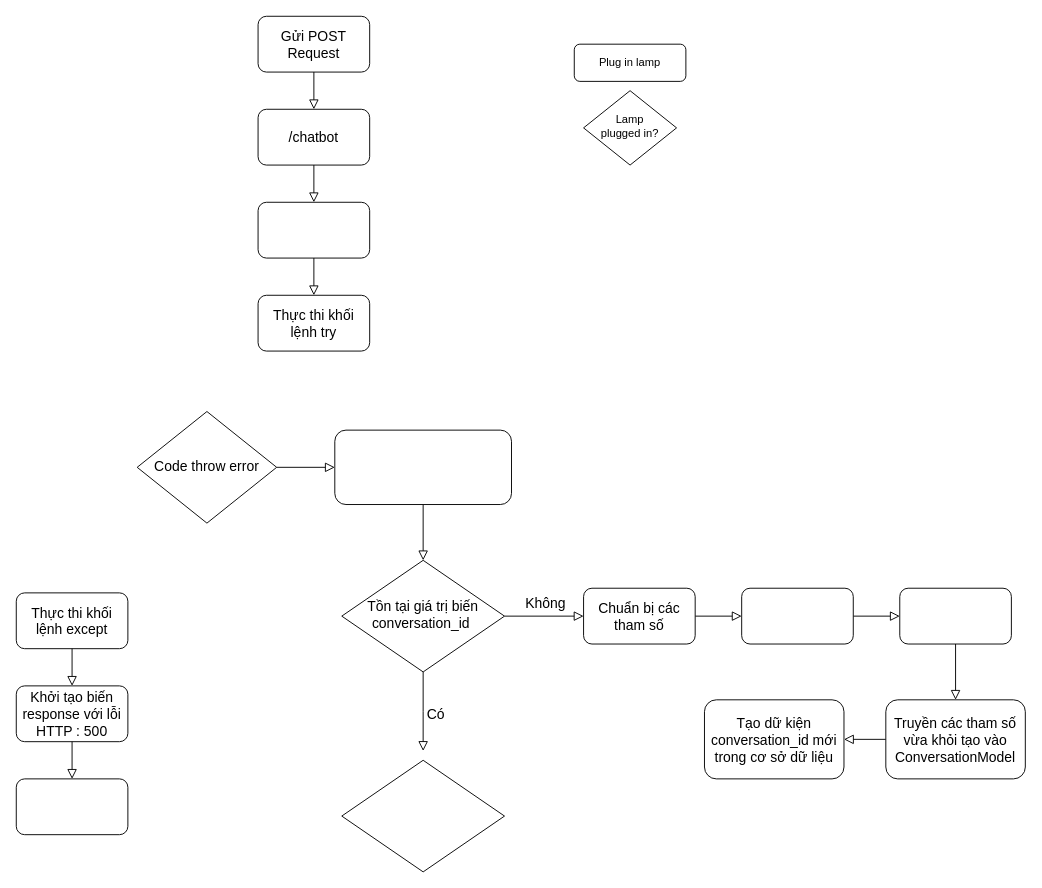
Some shapes in this 1042 by 888 pixel diagram are drawn without their labels. The shapes that lost their labels are listed below. From the top down, each one's centre as x and y in pixels, then its label:
[313,229]: Thực thi createMessage()
[423,467]: Lấy ra cookie["conversation_id"] và gán váo biến conversation_id
[797,615]: Khởi tạo conversation_id độc nhất
[955,615]: Khởi tạo thời gian
[71,806]: Trả về response cho máy người dùng
[423,815]: Tham số request["message"] từ người dùng
